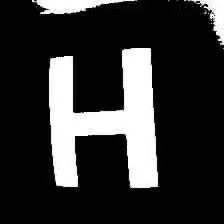LTR_H: (42, 40, 168, 198)
